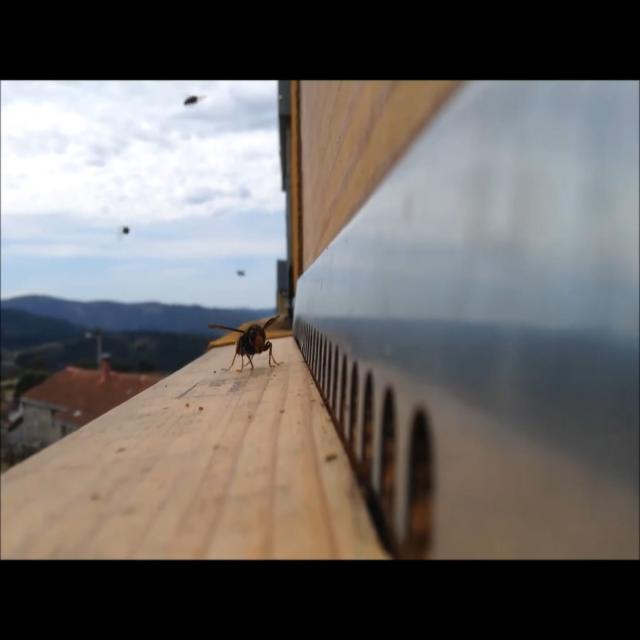Hornets: (206, 312, 286, 375)
